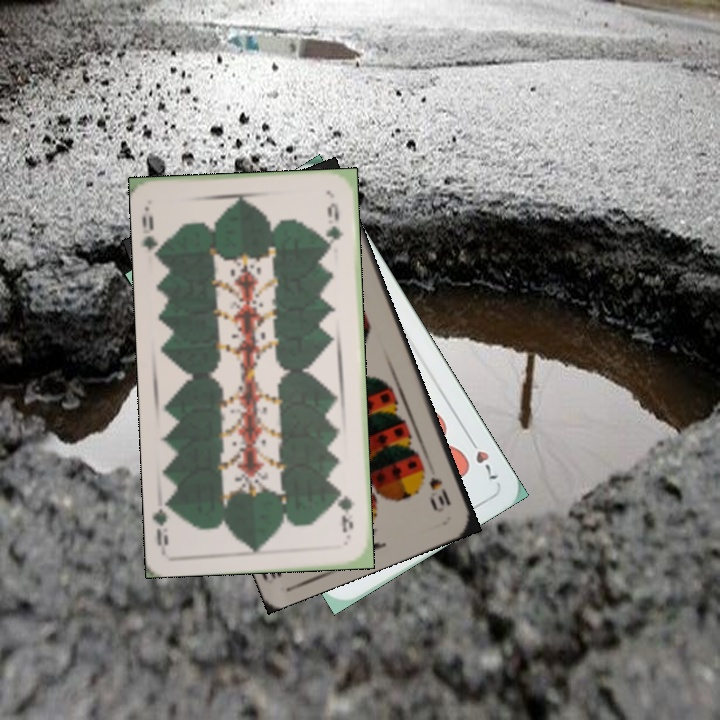G9: (138, 211, 166, 261), (335, 486, 356, 536)
H7: (463, 431, 501, 483)
S10: (425, 473, 454, 508)
